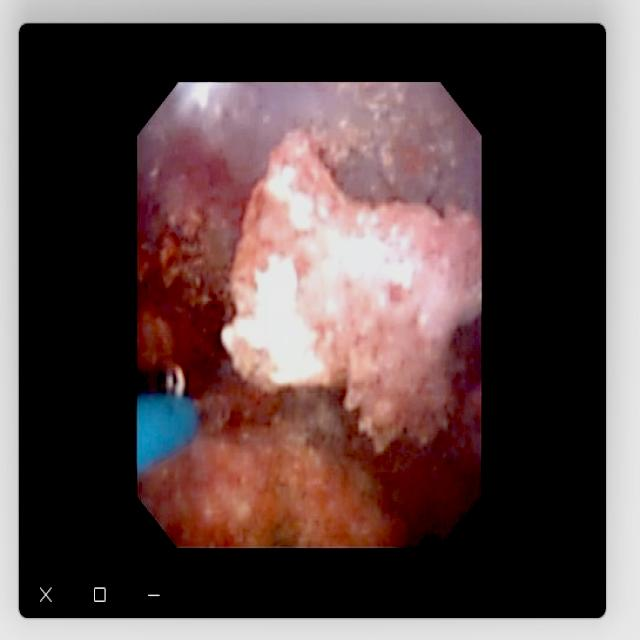fiber: (140, 404, 194, 470)
stone: (230, 140, 478, 444), (144, 387, 406, 543), (161, 204, 233, 301)
